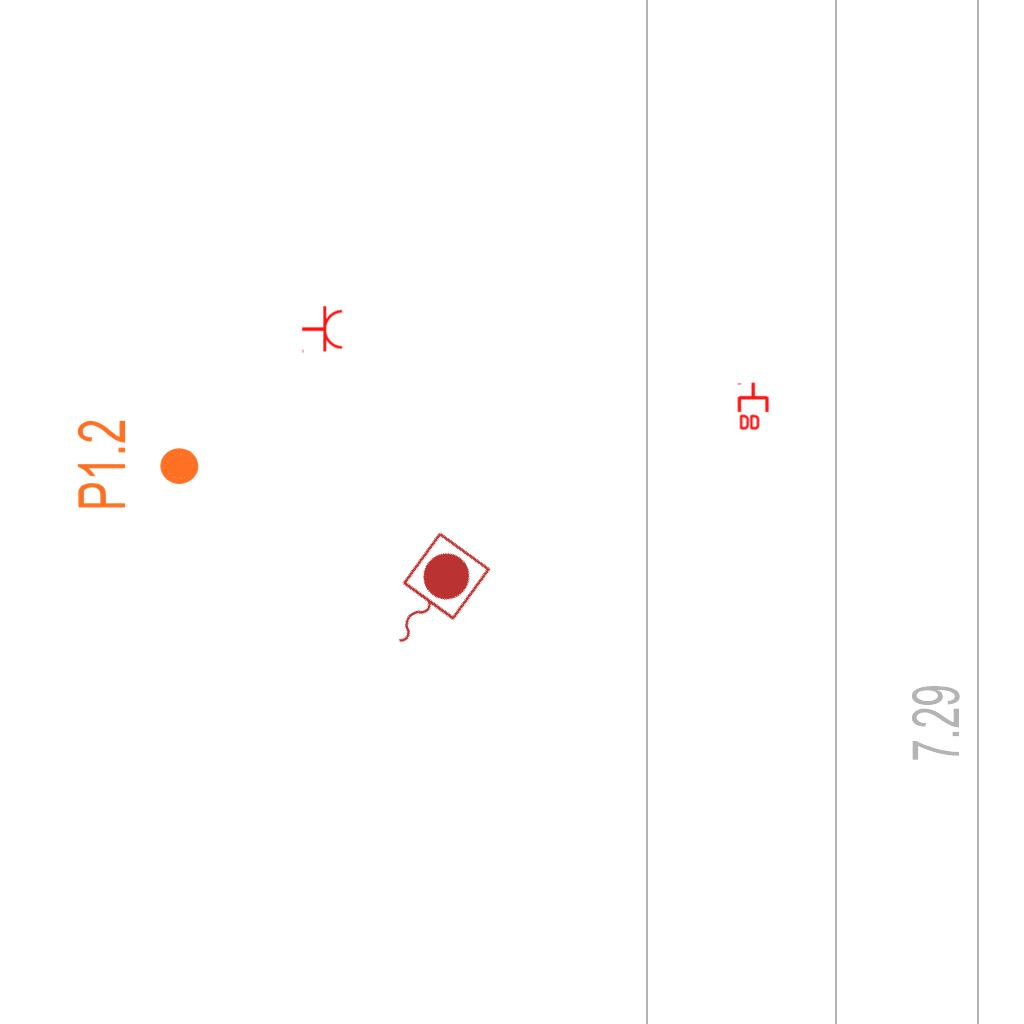Datenanschluss_zweifach: (737, 381, 771, 432)
Downlight_LED_Einbauleuchten_Flur: (74, 418, 202, 511)
Schukosteckdose_einfach: (301, 305, 344, 355)
Zugtaster: (366, 525, 496, 667)
